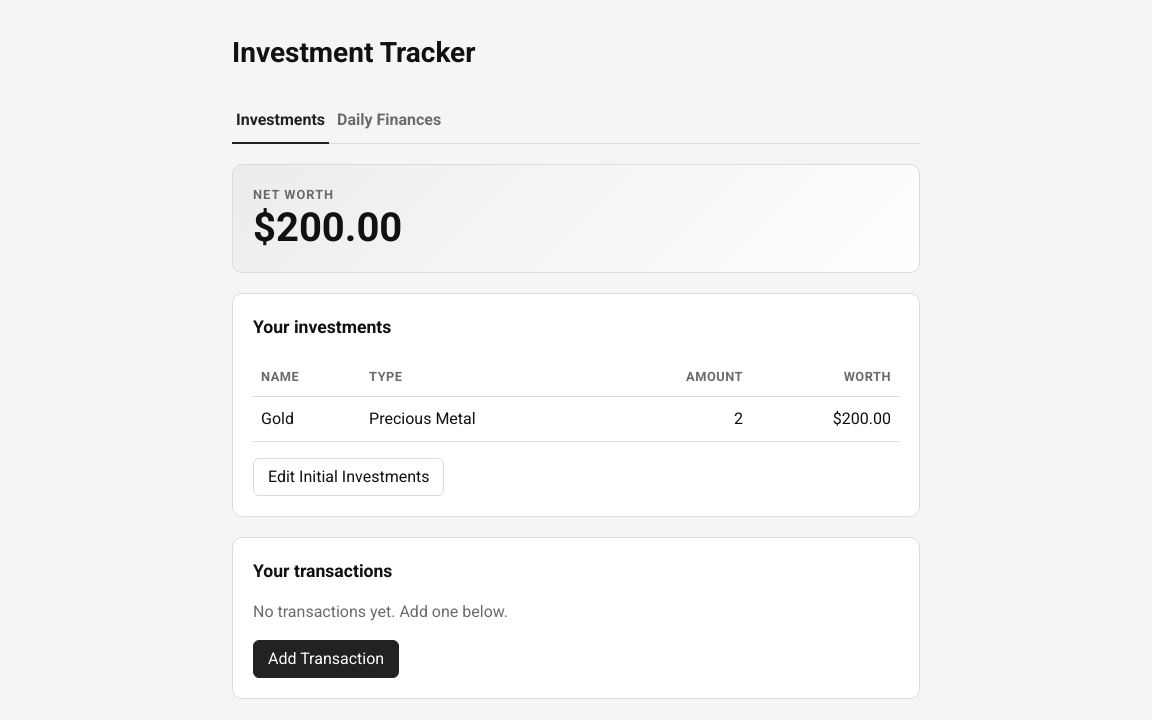
Test case: the initial investments window › shows the error and lets the user retry
The image size is (1152, 720).
Click the button "Edit Initial Investments": click(349, 477) [253,458,444,496]
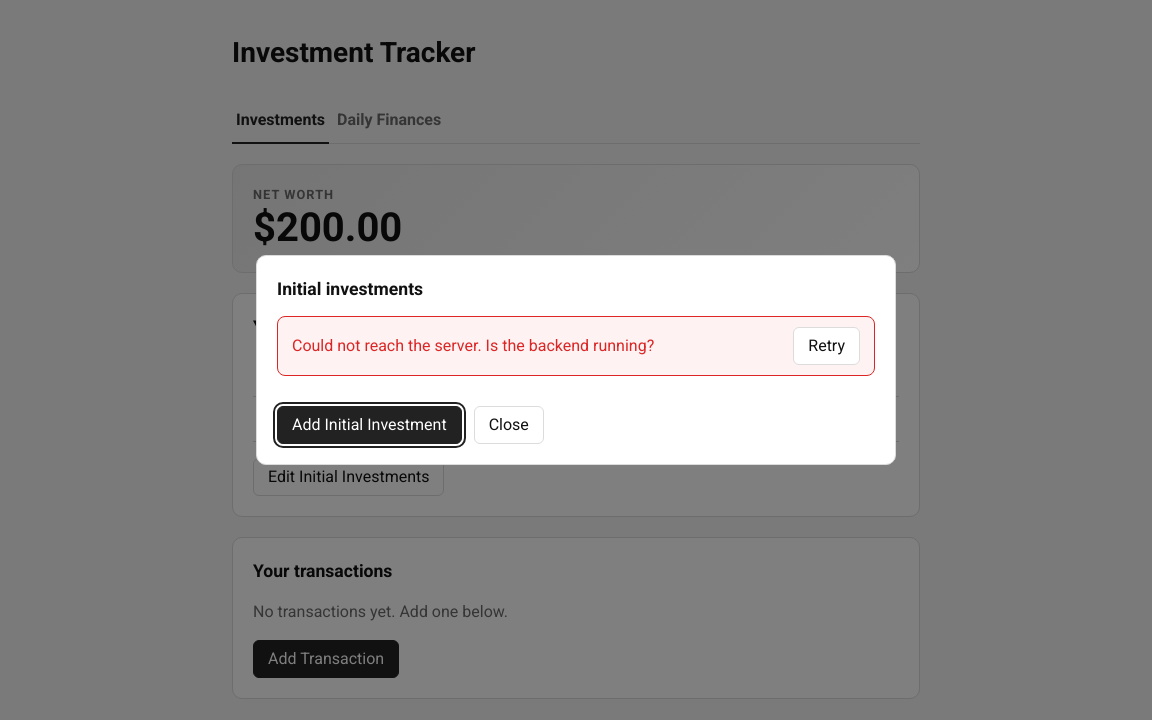
Check: the message shows "Could not reach the server", box [292,336,654,355]
Click the button "Retry": click(827, 346) [793,327,860,365]
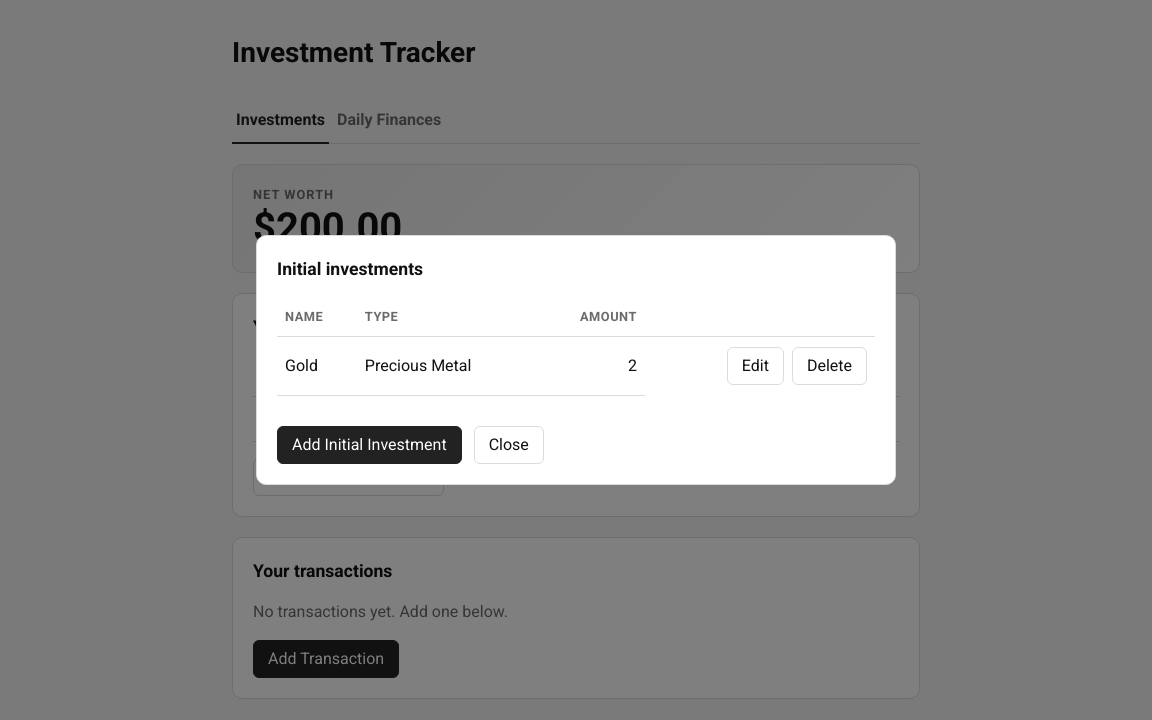
Check: the text "Precious Metal" is shown, box [357,336,538,395]
